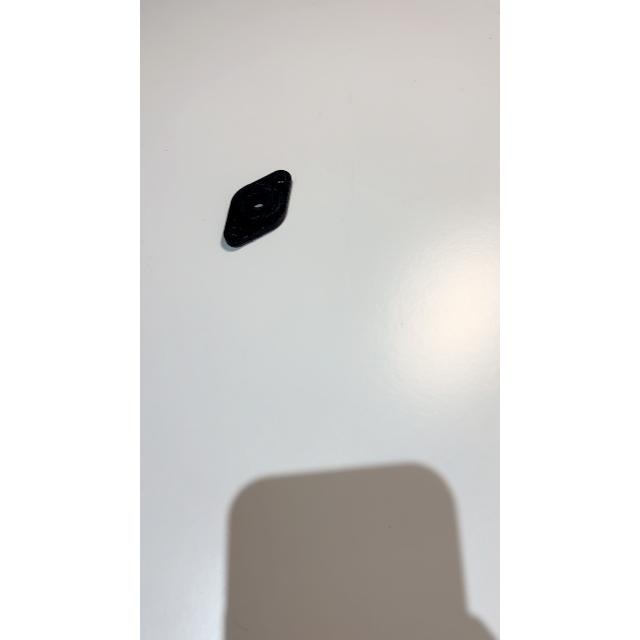Pieza_2: (208, 157, 300, 261)
